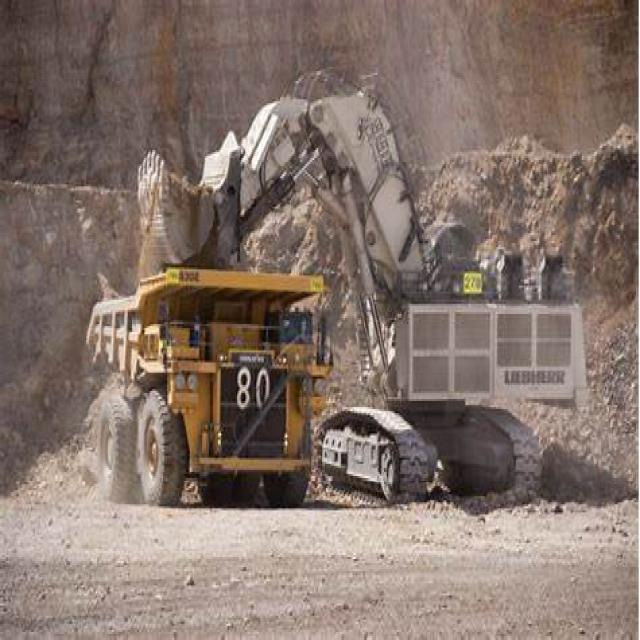dump_truck: (75, 257, 328, 523)
excavator: (132, 46, 597, 516)
